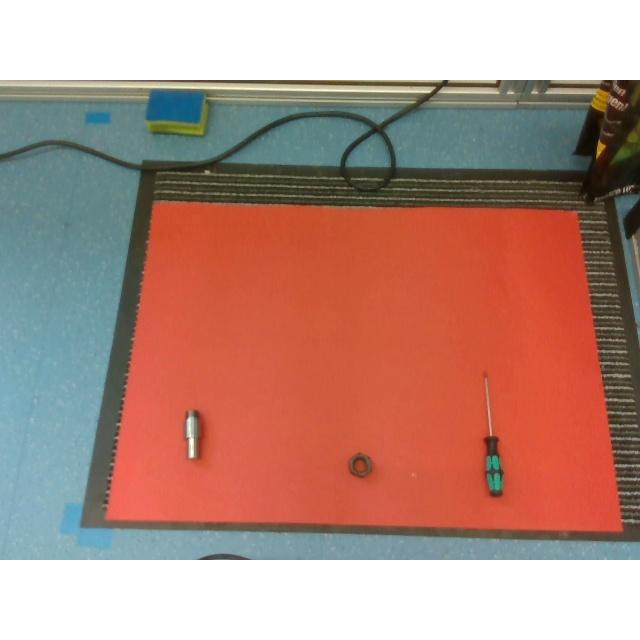Axis2: (184, 409, 200, 459)
M20: (347, 452, 373, 478)
Screwdriver: (484, 370, 504, 496)
